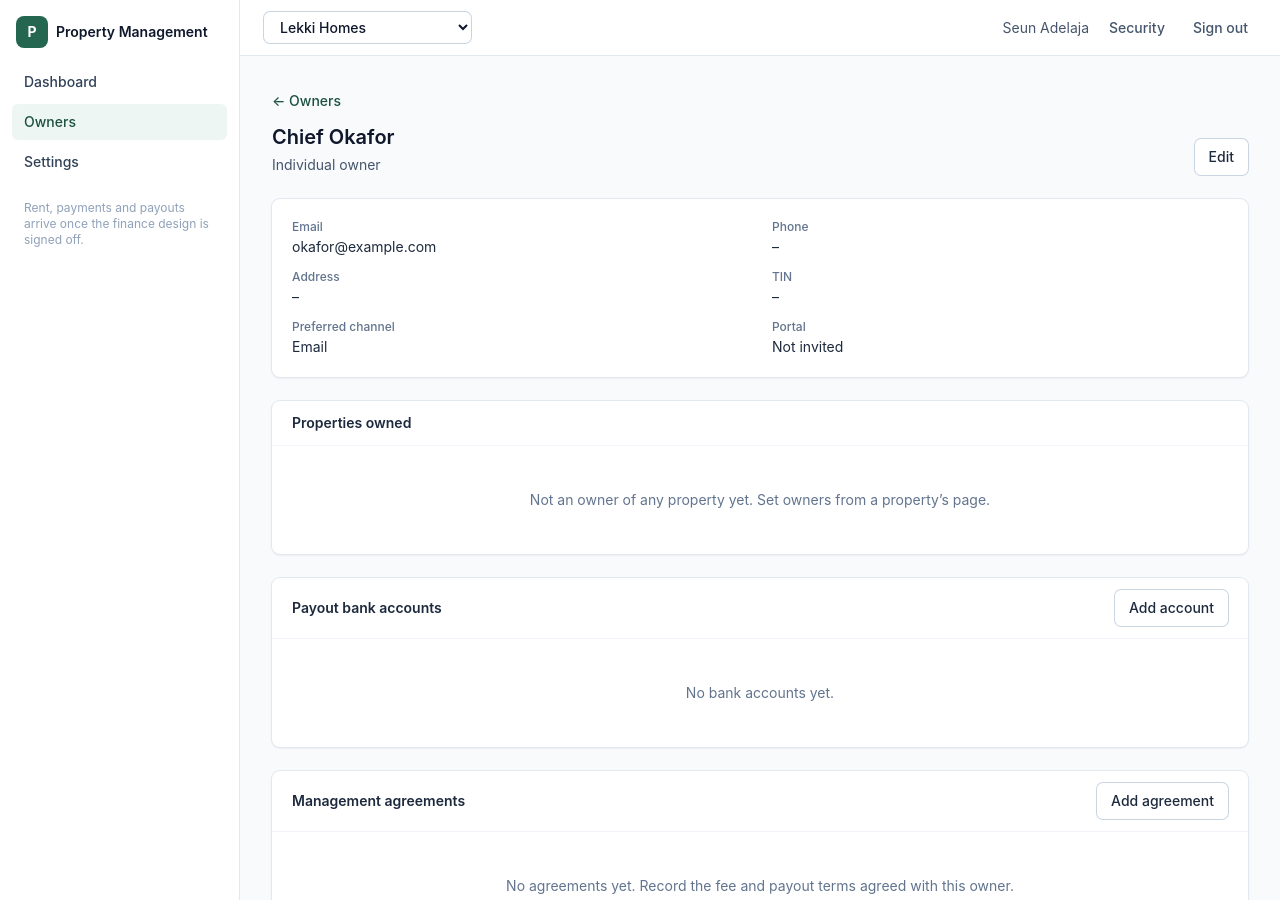
owner bank accounts › checks the account number is a 10-digit NUBAN before saving
Click the button "Add account" at (1172, 608), box [1115, 590, 1228, 626]
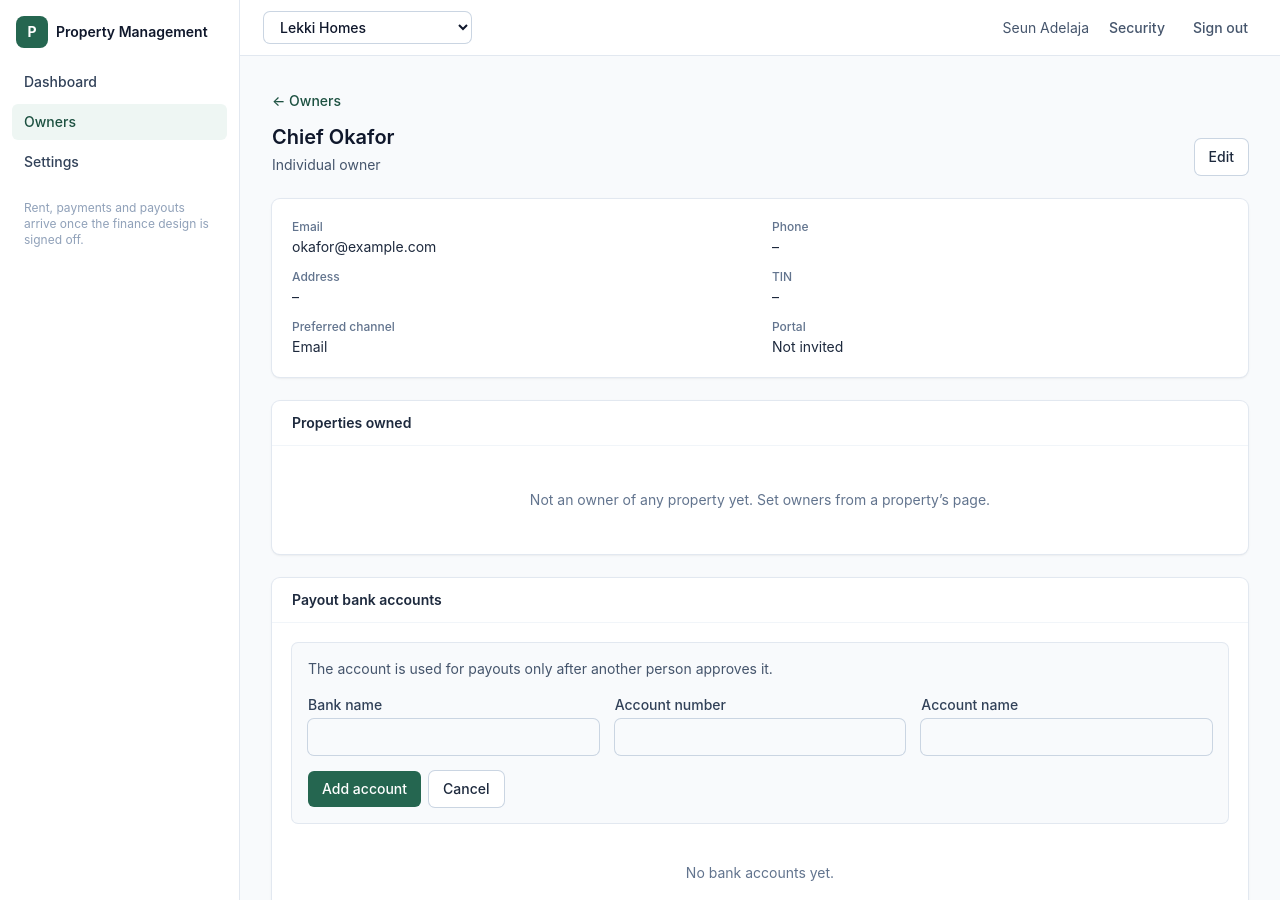
Type "GTBank" into the field labelled "Bank name" at (453, 737), box [308, 719, 599, 755]
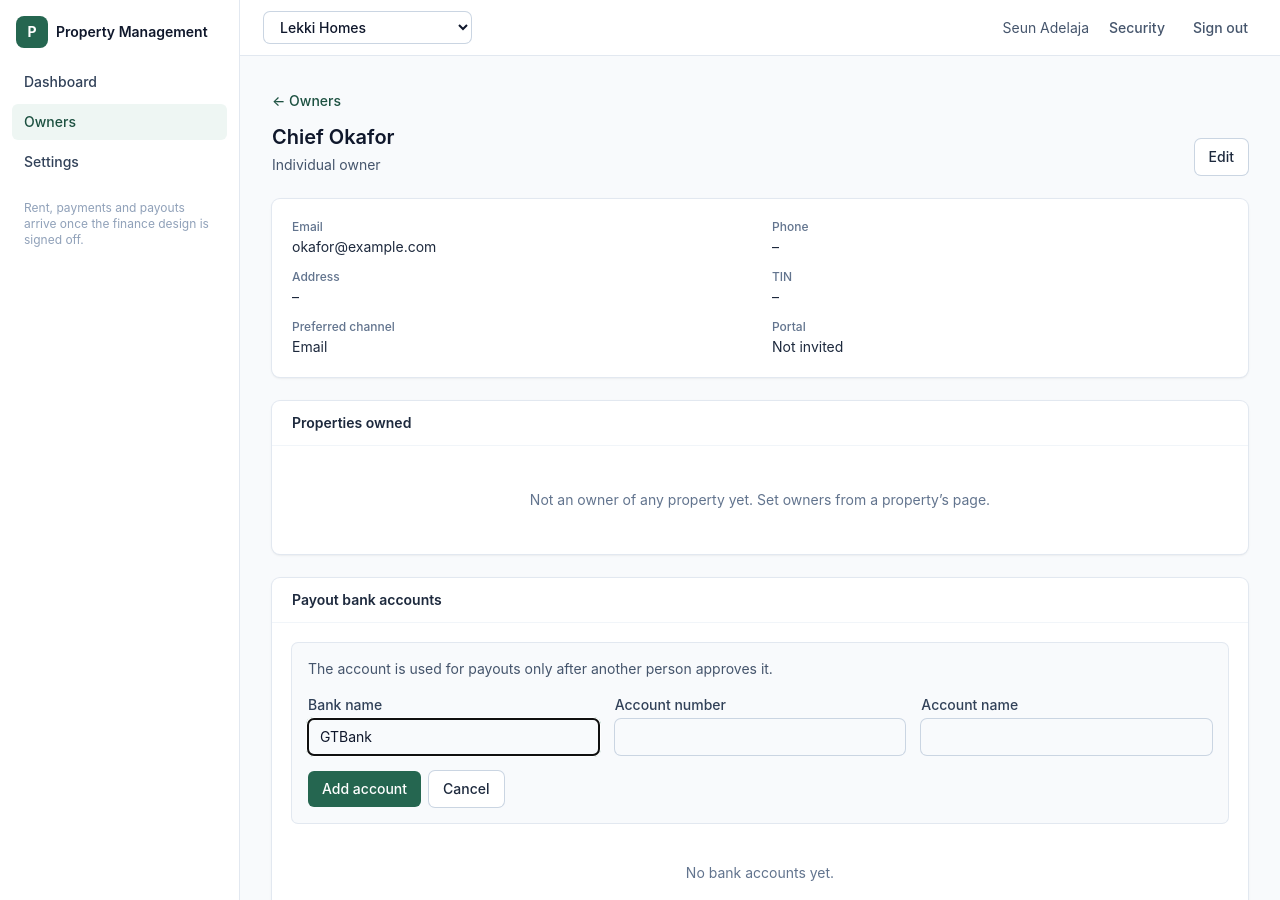
Type "12345" into the field labelled "Account number" at (760, 737), box [615, 719, 905, 755]
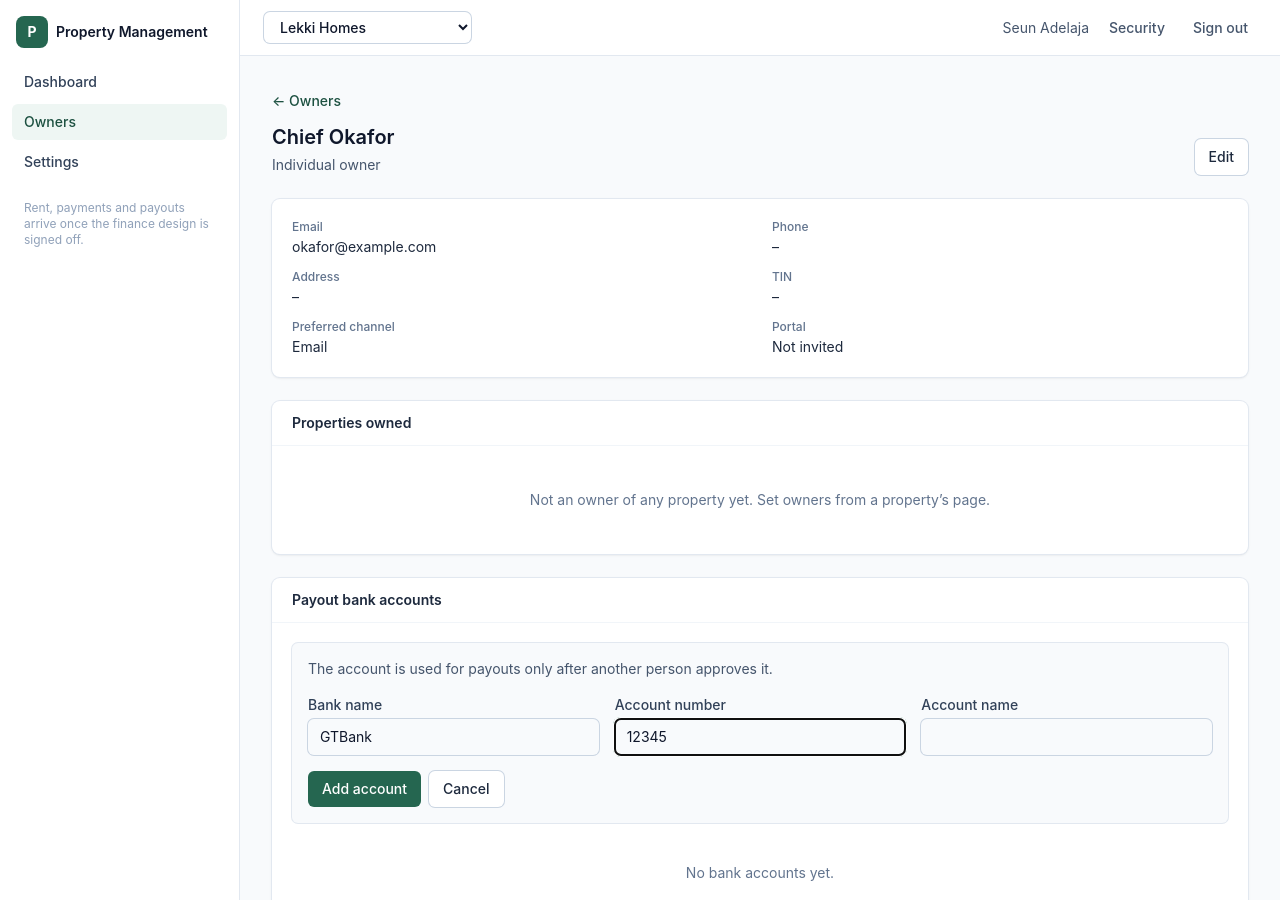
Type "Okafor" into the field labelled "Account name" at (1067, 737), box [921, 719, 1212, 755]
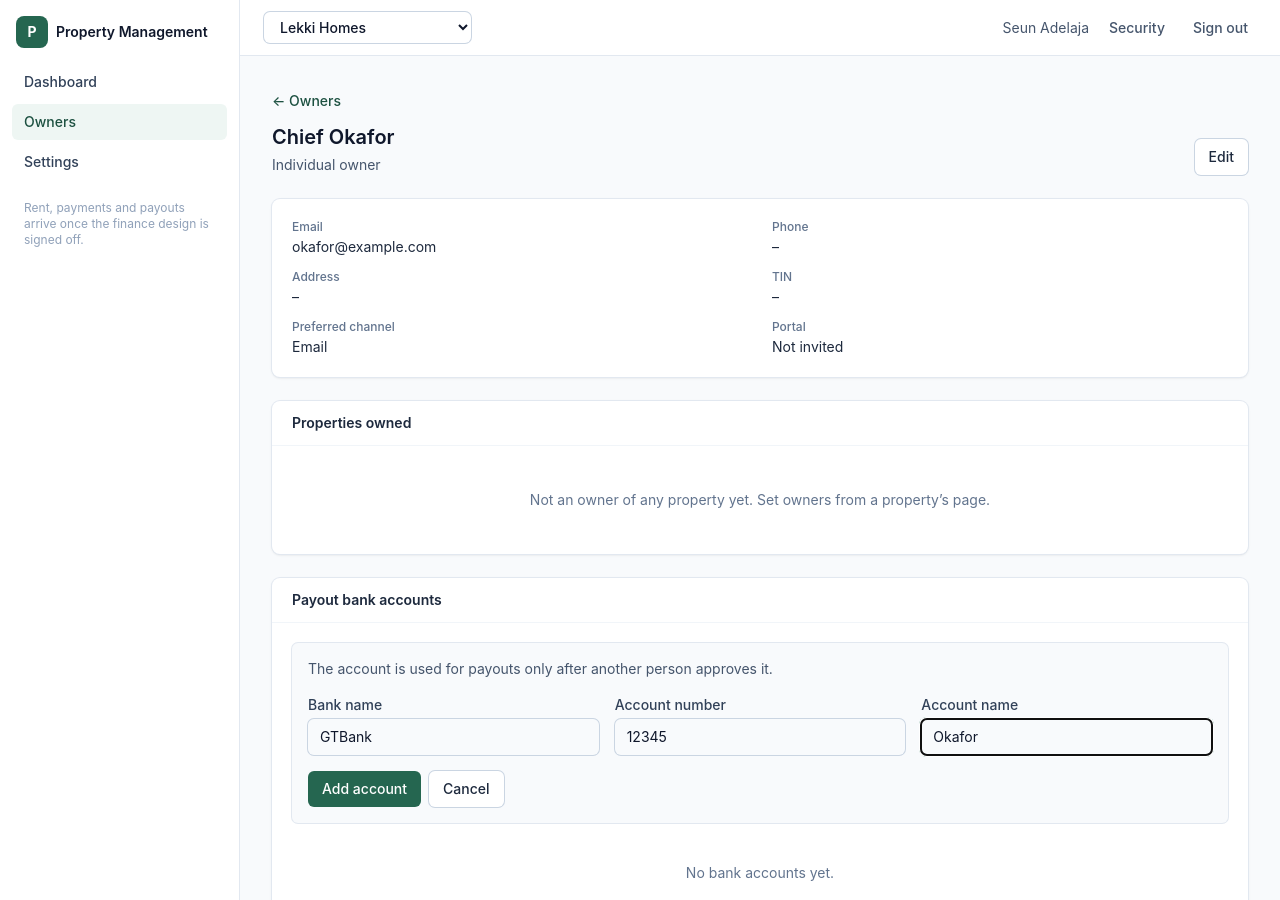
Click the button "Add account" at (364, 789), box [308, 771, 421, 807]
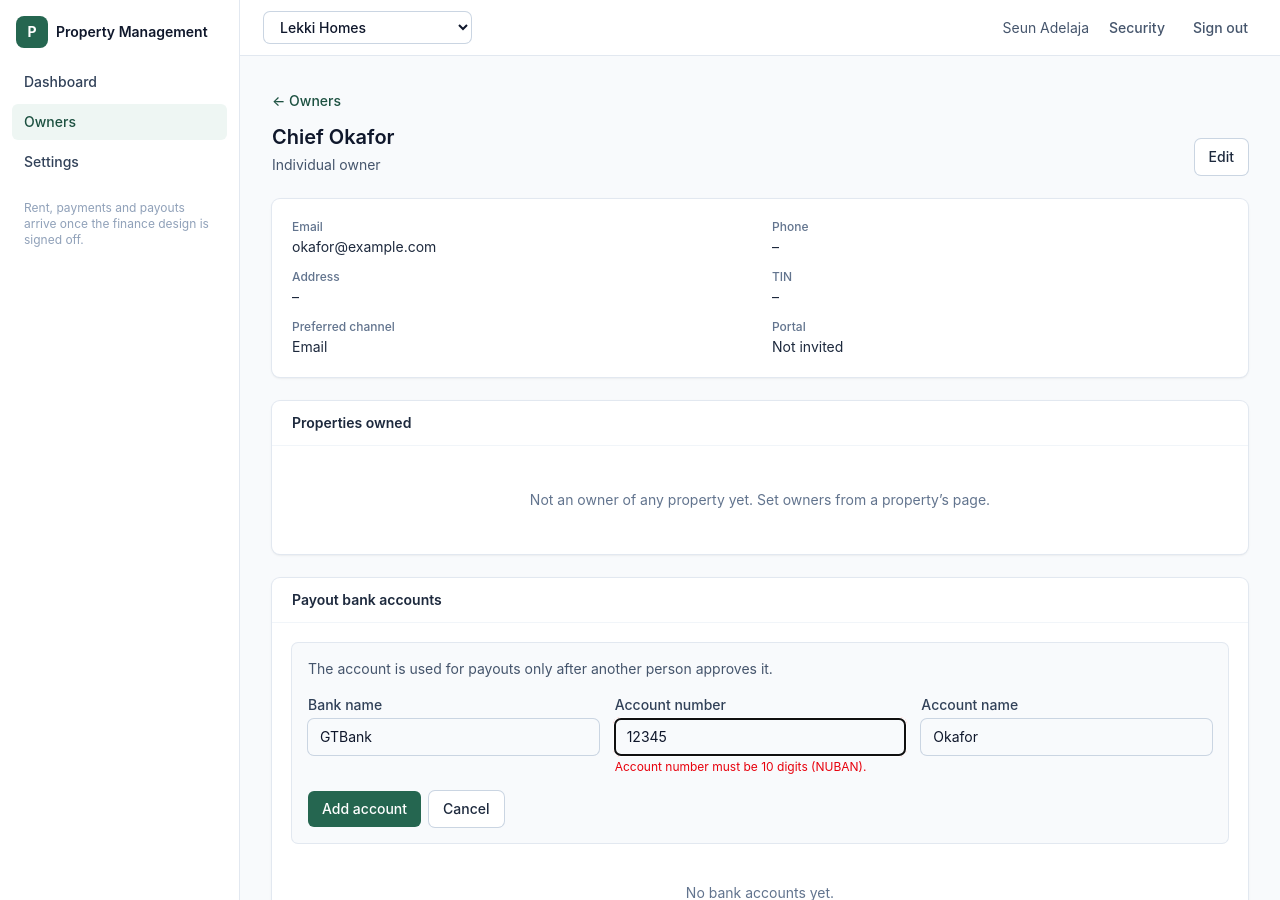
Now the text "Account number must be 10 digits (NUBAN)." is shown, box [615, 759, 905, 775]
